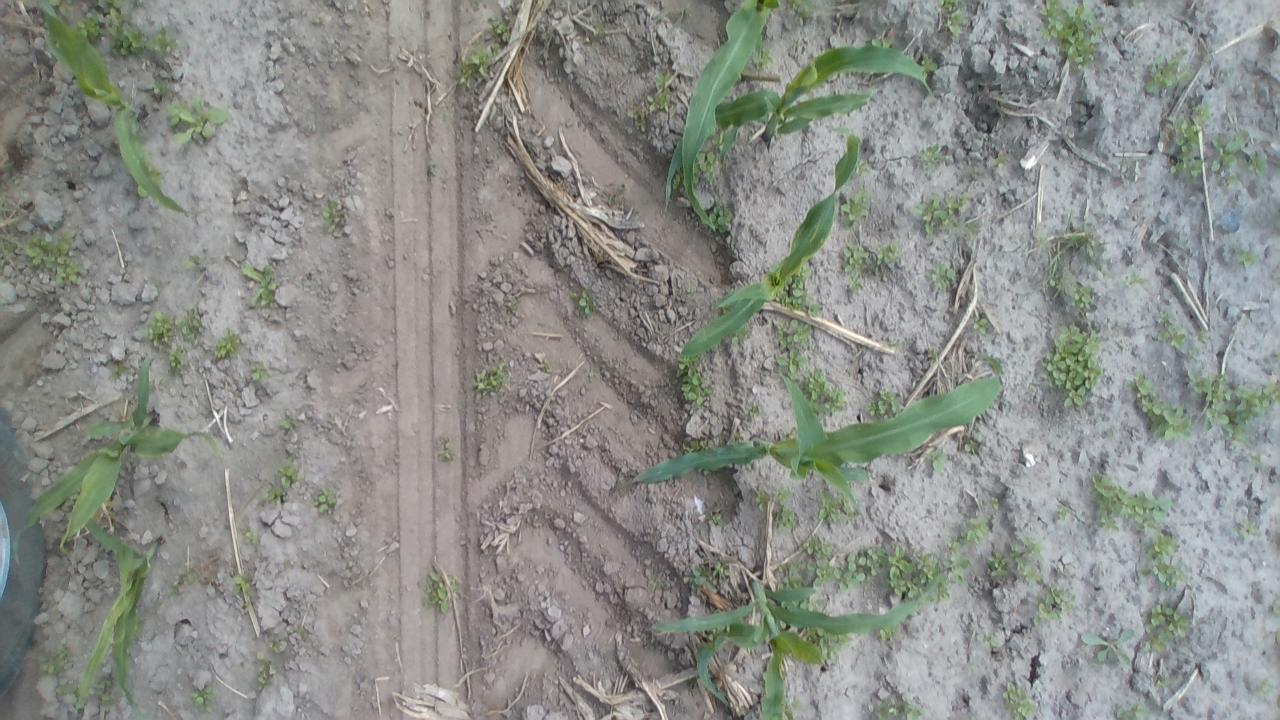Maize: (627, 374, 1005, 510), (13, 356, 230, 570), (664, 45, 934, 206), (679, 126, 861, 362), (654, 573, 944, 720), (32, 1, 190, 218), (682, 0, 781, 232), (74, 506, 165, 716)
Weeds: (1194, 373, 1280, 438), (1044, 323, 1102, 410), (1162, 93, 1212, 184), (1040, 0, 1102, 70), (1093, 478, 1171, 526), (1134, 376, 1190, 440), (168, 98, 230, 152), (890, 558, 970, 594), (26, 234, 84, 282), (1217, 127, 1266, 176), (110, 22, 176, 58), (1143, 47, 1190, 96), (841, 240, 898, 278), (1082, 626, 1134, 665), (1148, 602, 1190, 650), (802, 368, 848, 410), (240, 262, 278, 310), (256, 460, 299, 502), (840, 550, 910, 575), (756, 487, 798, 528), (944, 514, 988, 553), (923, 195, 966, 234), (425, 566, 458, 613), (867, 693, 924, 720), (676, 361, 708, 408), (780, 272, 818, 310), (816, 488, 858, 520), (779, 318, 812, 356), (1004, 681, 1036, 720), (1156, 310, 1188, 347), (686, 562, 726, 591), (474, 362, 506, 398), (459, 49, 491, 83), (926, 260, 958, 292), (1148, 558, 1182, 588), (145, 314, 175, 347), (1042, 583, 1066, 622), (864, 388, 900, 414), (40, 645, 70, 675), (1147, 530, 1180, 557), (1067, 281, 1095, 312), (181, 306, 205, 342), (987, 551, 1014, 582), (842, 192, 872, 218), (809, 560, 834, 591), (1012, 536, 1038, 565), (324, 195, 344, 232), (214, 334, 240, 362), (939, 1, 961, 34), (1238, 238, 1260, 270), (805, 534, 832, 558), (919, 142, 942, 170), (314, 485, 335, 514), (708, 206, 732, 231), (1120, 701, 1150, 720), (191, 686, 213, 710), (280, 408, 298, 437), (490, 18, 511, 42), (75, 18, 100, 38), (978, 629, 1000, 650), (578, 290, 594, 318), (230, 574, 250, 594), (966, 433, 984, 454), (185, 252, 203, 272), (972, 316, 989, 337), (146, 79, 164, 98), (929, 448, 945, 469), (744, 403, 762, 420), (682, 436, 700, 452), (250, 361, 266, 379), (110, 361, 128, 377), (168, 353, 182, 369), (994, 153, 1007, 168)
